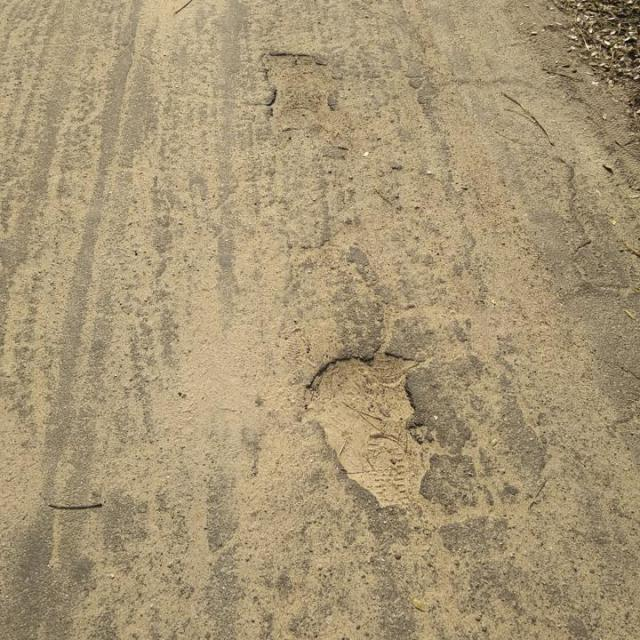pothole: (301, 343, 443, 512), (259, 47, 345, 134)
